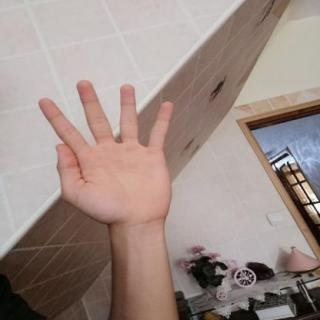SHEEN: (30, 73, 194, 233)
